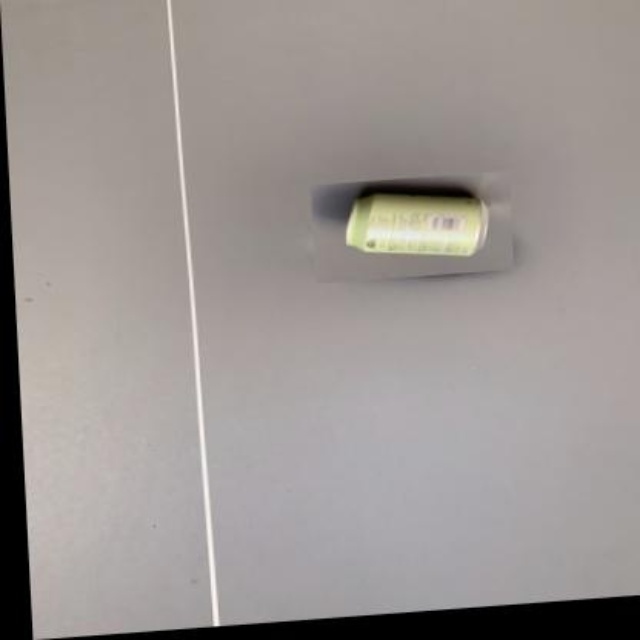trash: (346, 194, 486, 255)
